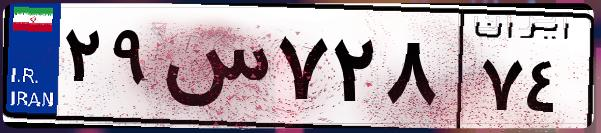2: (330, 28, 385, 110), (57, 26, 110, 100)
4: (525, 38, 570, 115)
7: (270, 28, 330, 110), (475, 38, 525, 113)
8: (385, 28, 445, 110)
9: (110, 28, 158, 98)
س: (158, 20, 270, 120)
